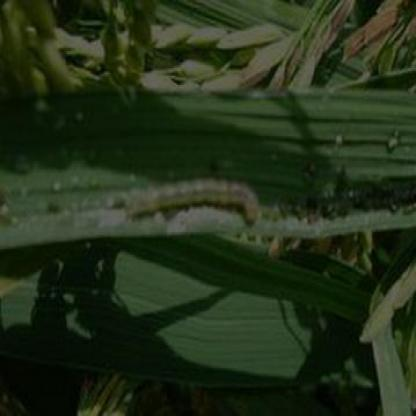leaf-folder: (115, 169, 282, 230)
